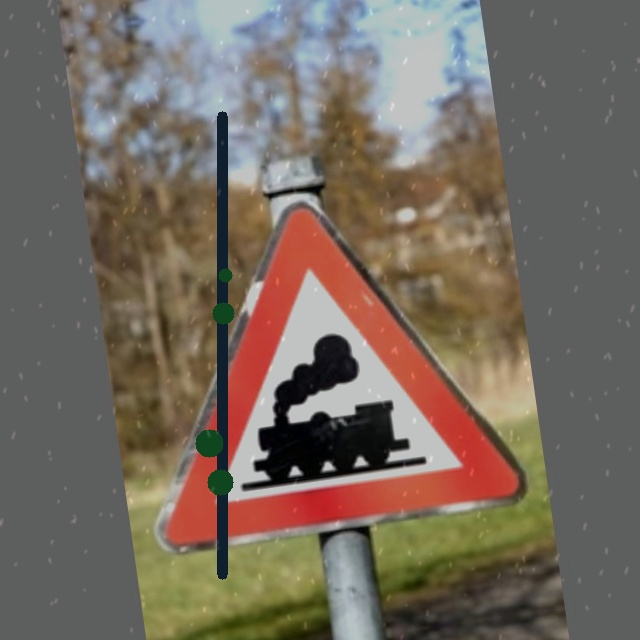Unguarded_Level_Crossing: (110, 176, 528, 555)
